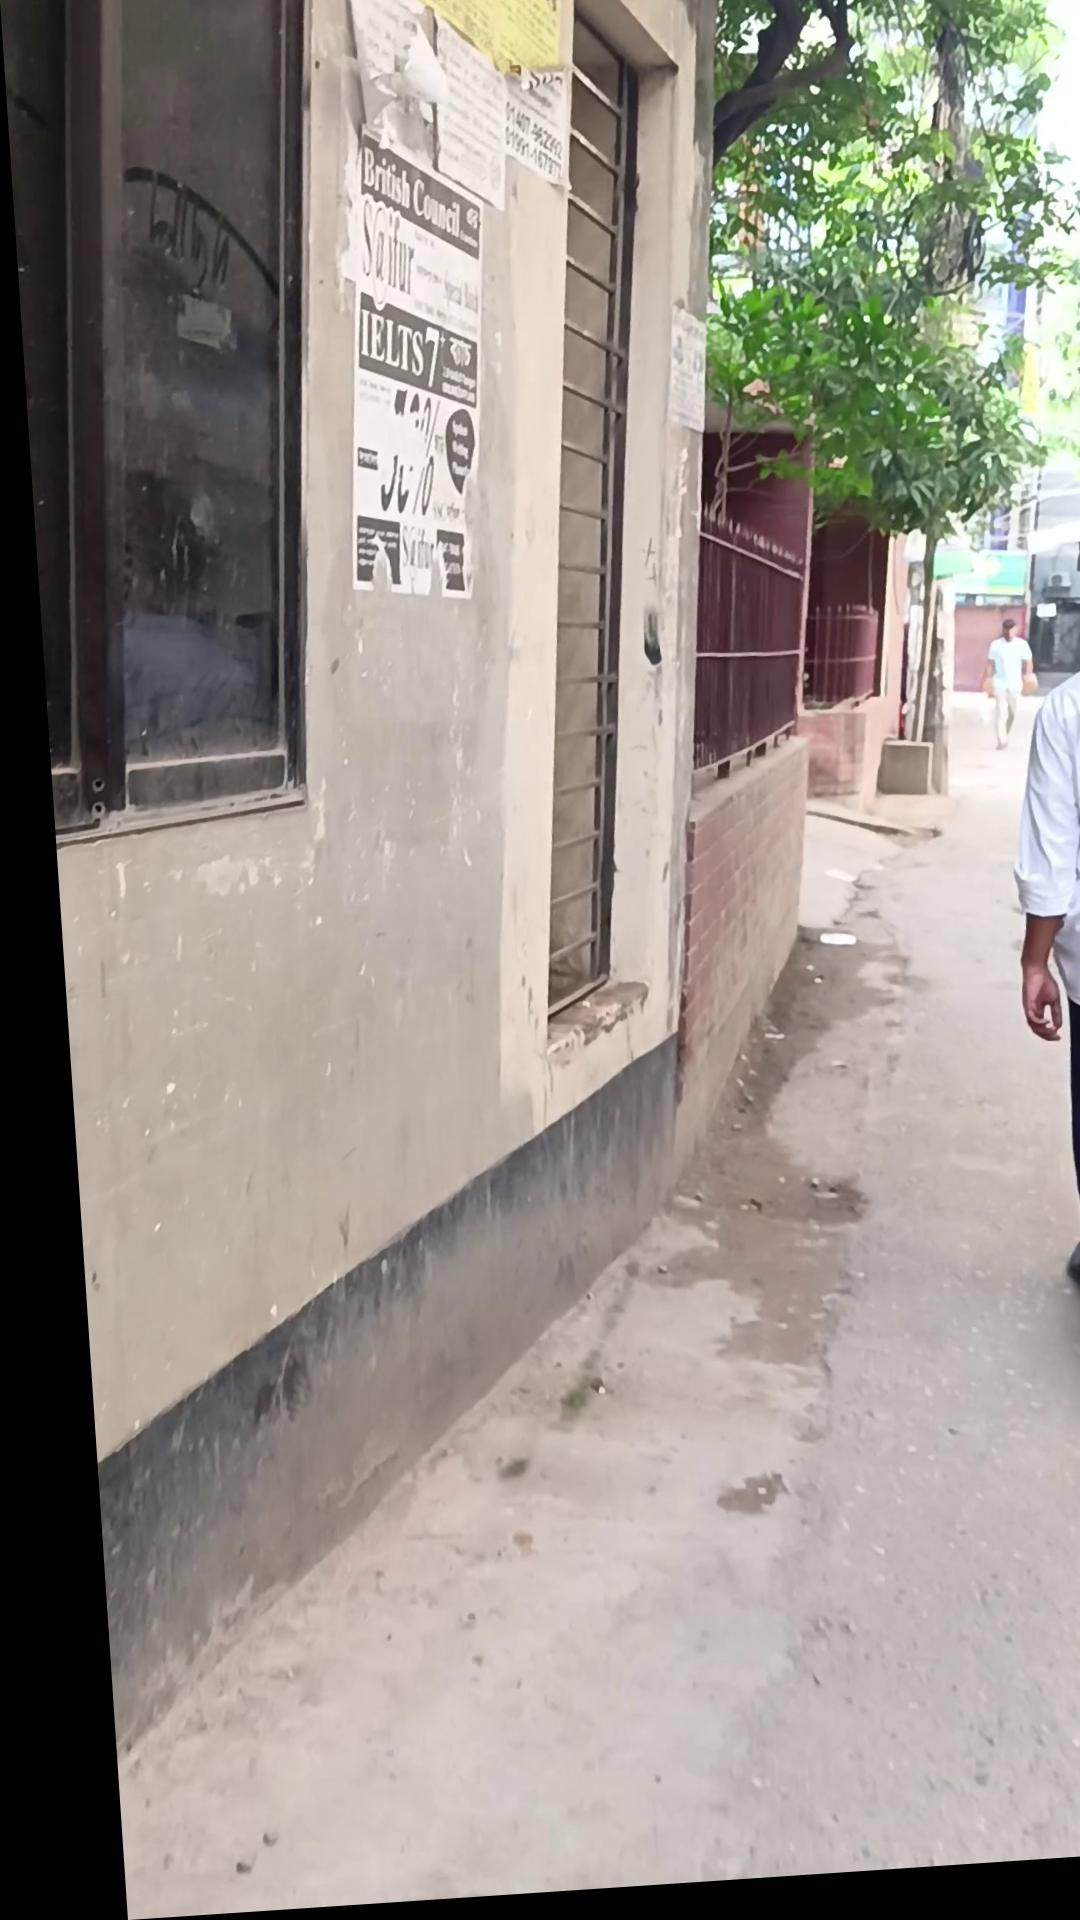Muddy road: (978, 521, 1080, 1439), (965, 629, 1029, 765)
Tree: (16, 0, 740, 1764)
